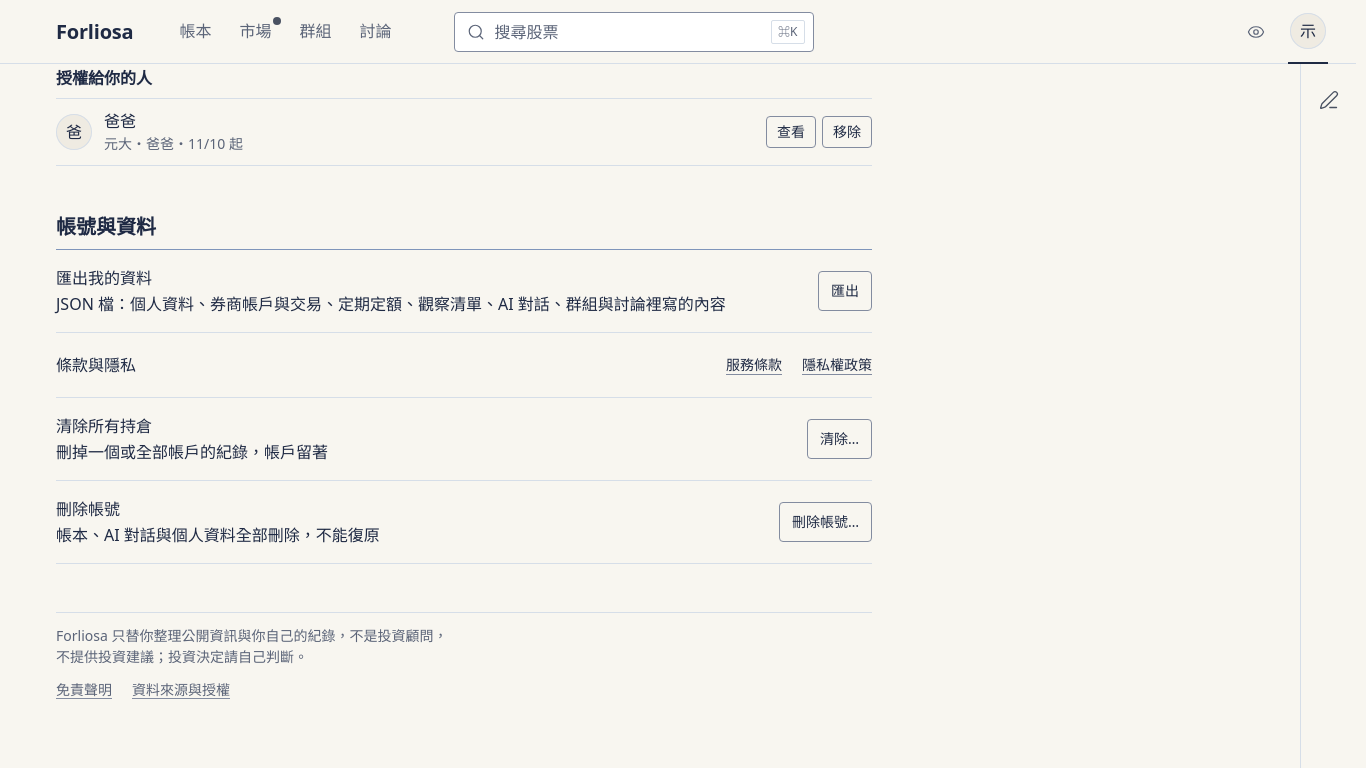
Test: 入口 › 設定「帳號與資料」：「清除所有持倉」一列，在刪除帳號前面；外框按鈕「清除…」打開確認框
(page scrolled)
Check: the element "帳號與資料" shows "刪掉一個或全部帳戶的紀錄，帳戶留著", box x1=56 y1=440 x2=328 y2=462
Click the button "清除…". click: point(839, 438)
box: x1=807 y1=418 x2=872 y2=458
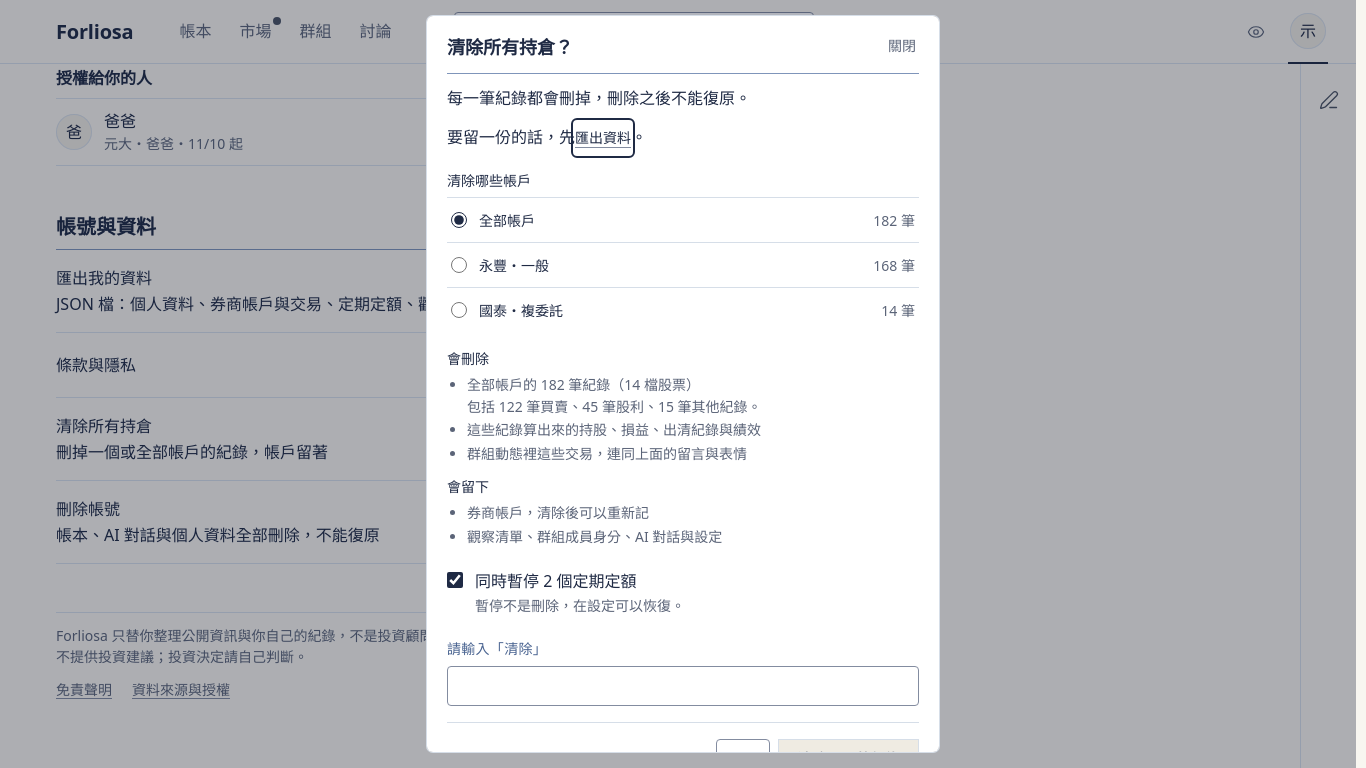
Check: the dialog "清除所有持倉？" is shown, box x1=427 y1=16 x2=939 y2=752
